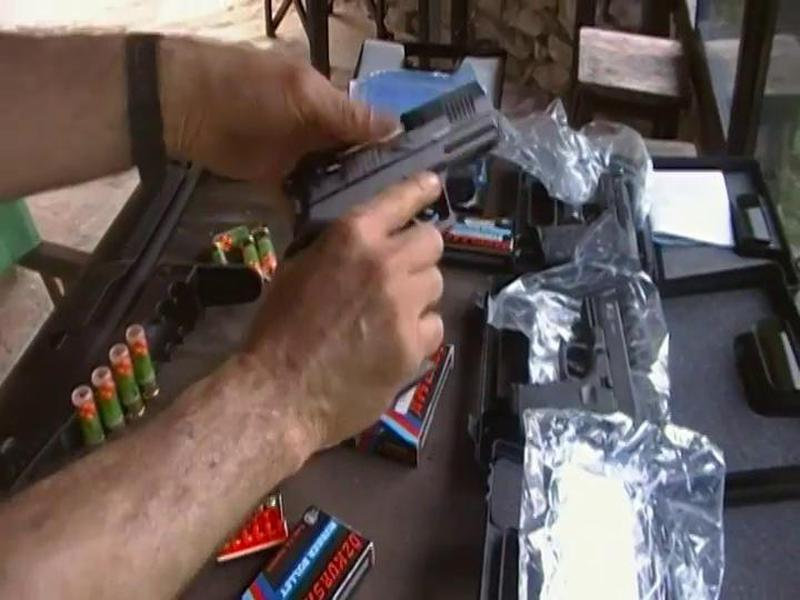Pistola: (266, 78, 512, 298)
